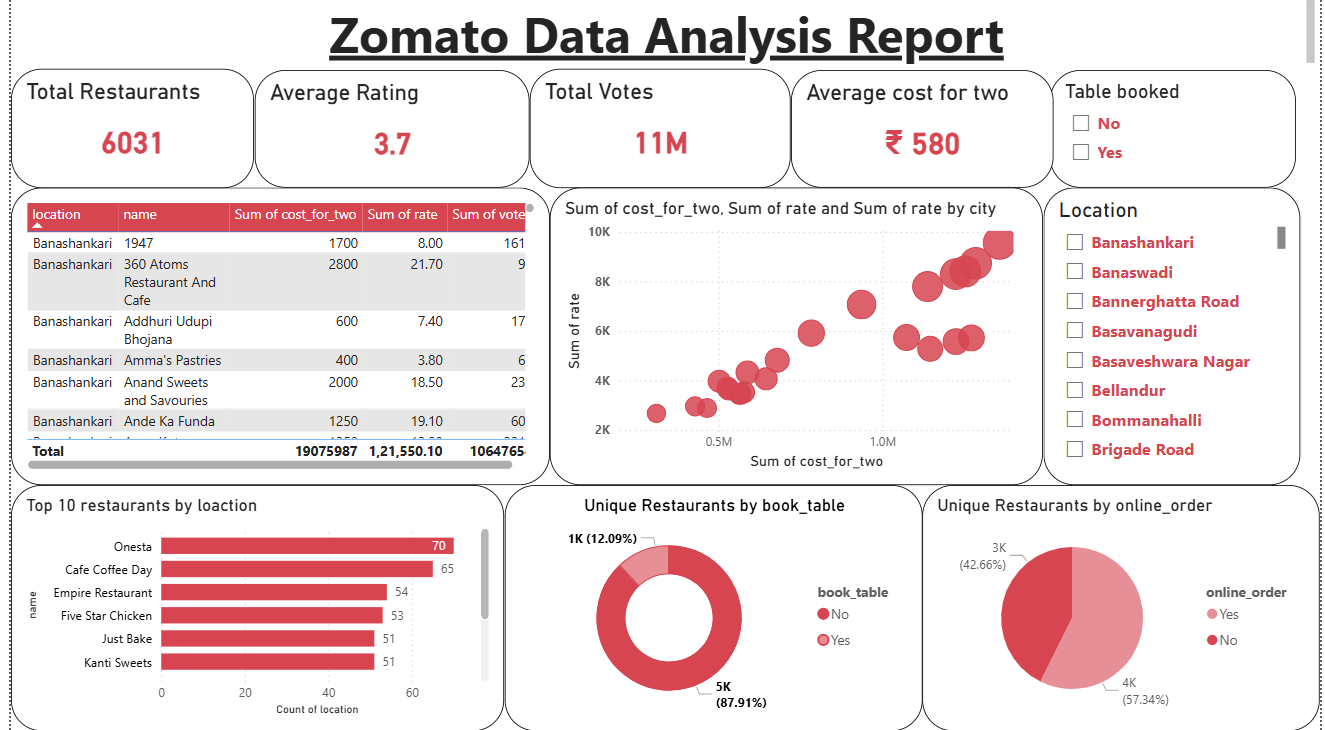

Layout of this report page (visuals, bound fields, positions):
{"tool":"powerbi","page":{"name":"Page 1","canvas":[1280,720],"ordinal":0},"visuals":[{"type":"tableEx","fields":{"Values":["cleaned_zomato (1).location","cleaned_zomato (1).name","Sum(cleaned_zomato (1).cost_for_two)","Sum(cleaned_zomato (1).rate)","Sum(cleaned_zomato (1).votes)"]},"box":[0,188.9,527.3,290.8],"z":0},{"type":"pieChart","fields":{"Category":["cleaned_zomato (1).online_order"],"Y":["cleaned_zomato (1).Total Restaurants"]},"box":[891.6,479.8,388.7,240.6],"z":1000},{"type":"donutChart","fields":{"Y":["cleaned_zomato (1).Total Restaurants"],"Category":["cleaned_zomato (1).book_table"]},"box":[482.5,479.8,409.1,240.6],"z":2000},{"type":"slicer","title":"Location","fields":{"Values":["cleaned_zomato (2).location"]},"box":[1009.8,188.9,251.4,290.8],"z":3000},{"type":"slicer","title":"Table booked","fields":{"Values":["cleaned_zomato (2).book_table"]},"box":[1016.6,73.4,240.6,115.5],"z":4000},{"type":"textbox","box":[9.6,0,1270.7,72.7],"z":5000},{"type":"barChart","title":"Top 10 restaurants by loaction","fields":{"Category":["cleaned_zomato (1).name"],"Y":["CountNonNull(cleaned_zomato (1).location)"]},"box":[0,479.8,482.5,240.6],"z":6000},{"type":"card","title":"Total Restaurants","fields":{"Values":["cleaned_zomato (1).Total Restaurants"]},"box":[0,72,237.8,116.9],"z":7000},{"type":"card","title":"Average Rating","fields":{"Values":["cleaned_zomato (1).average rating"]},"box":[237.8,73.4,269.1,115.5],"z":8000},{"type":"card","title":"Total Votes","fields":{"Values":["Sum(cleaned_zomato (1).votes)"]},"box":[506.9,72,255.5,116.9],"z":9000},{"type":"card","title":"Average cost for two","fields":{"Values":["cleaned_zomato (2).average cost for two"]},"box":[762.5,73.4,256.9,115.5],"z":10000},{"type":"scatterChart","fields":{"X":["Sum(cleaned_zomato (2).cost_for_two)"],"Y":["Sum(cleaned_zomato (2).rate)"],"Category":["cleaned_zomato (2).city"],"Size":["Sum(cleaned_zomato (2).rate)"]},"box":[527.3,188.9,482.5,290.8],"z":11000}]}

Visuals, with their boxes in screenshot pixels (x1, y1, x2, y2), scaled from the page's 1280x720 canvas onto the 1325x730 screenshot:
tableEx - cleaned_zomato (1).location x cleaned_zomato (1).name: 0:192:546:486
pieChart - cleaned_zomato (1).online_order x cleaned_zomato (1).Total Restaurants: 923:486:1324:729
donutChart - cleaned_zomato (1).Total Restaurants x cleaned_zomato (1).book_table: 499:486:923:729
"Location" slicer: 1045:192:1306:486
"Table booked" slicer: 1052:74:1301:192
textbox: 10:0:1324:74
"Top 10 restaurants by loaction" barChart: 0:486:499:729
"Total Restaurants" card: 0:73:246:192
"Average Rating" card: 246:74:525:192
"Total Votes" card: 525:73:789:192
"Average cost for two" card: 789:74:1055:192
scatterChart - Sum(cleaned_zomato (2).cost_for_two) x Sum(cleaned_zomato (2).rate): 546:192:1045:486
